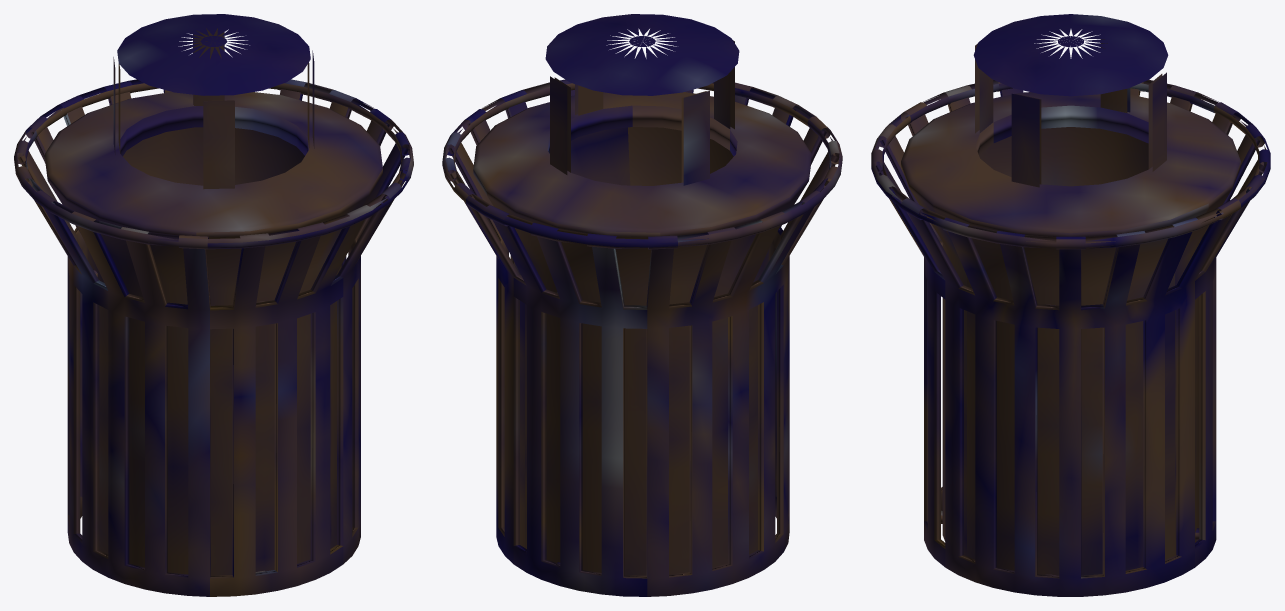
Rendered from tj_trash_cap.fbx.
The picture shows the model from 3 angles, left to right: view 1: azimuth 30°, elevation 25°; view 2: azimuth 150°, elevation 25°; view 3: azimuth 270°, elevation 25°; orthographic projection.
Visible parts, largest first — view 1: tj_trash_cap_LOD0; view 2: tj_trash_cap_LOD0; view 3: tj_trash_cap_LOD0.
Boxes of the visible parts, box(x1,y1,x2,y2) form: tj_trash_cap_LOD0: box(14, 14, 413, 596); tj_trash_cap_LOD0: box(442, 14, 842, 596); tj_trash_cap_LOD0: box(871, 14, 1270, 596).
Size of what is drawn, in the model's own units: 0.9266 by 1.26 by 0.9266.
1 material, 1 textured.
